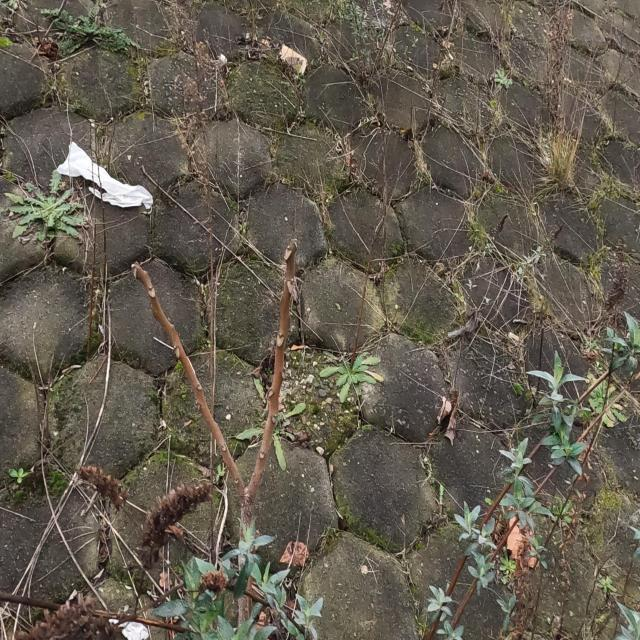Paper: (55, 140, 154, 210)
